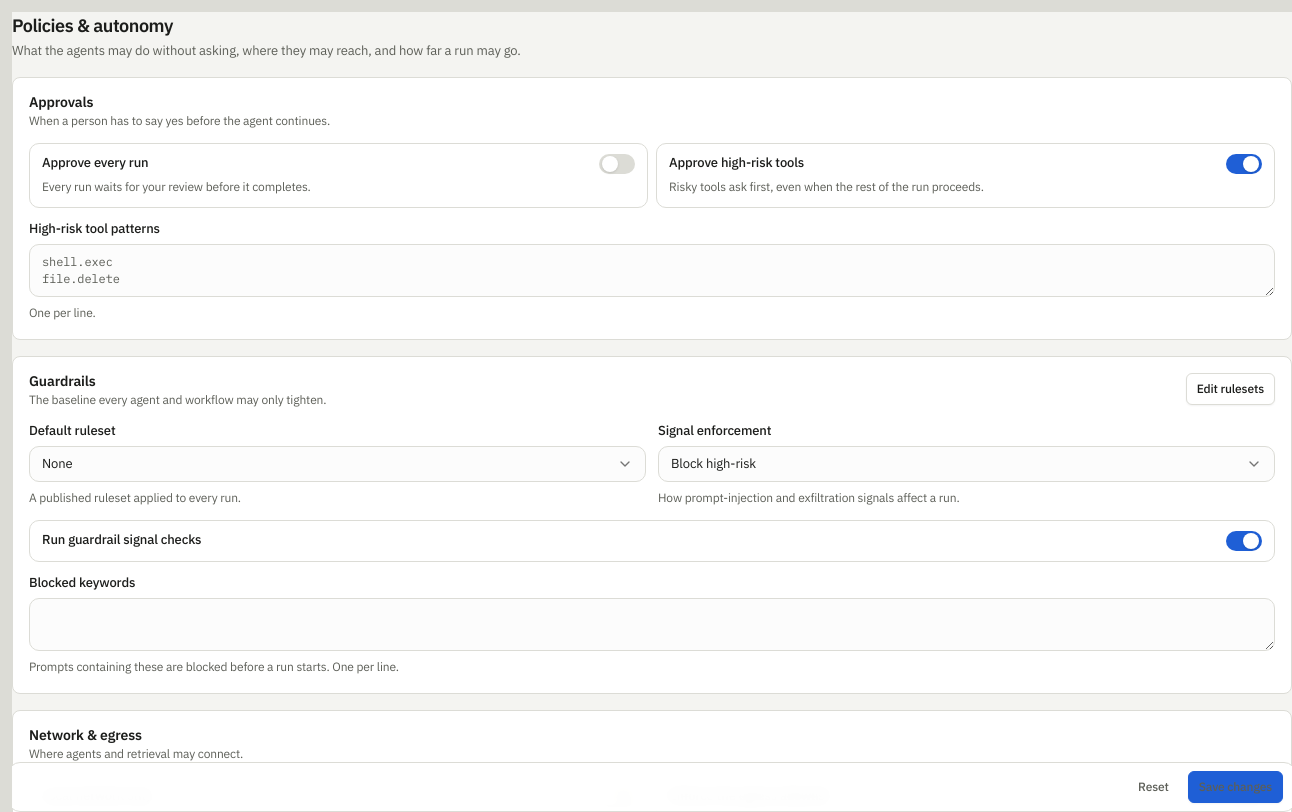
Test: Policies & autonomy › saves only its own fields through savePlatformSettings
Click the switch named "approve every run" in the row of "Approve every run". click: (617, 164)
box: [599,154,635,174]
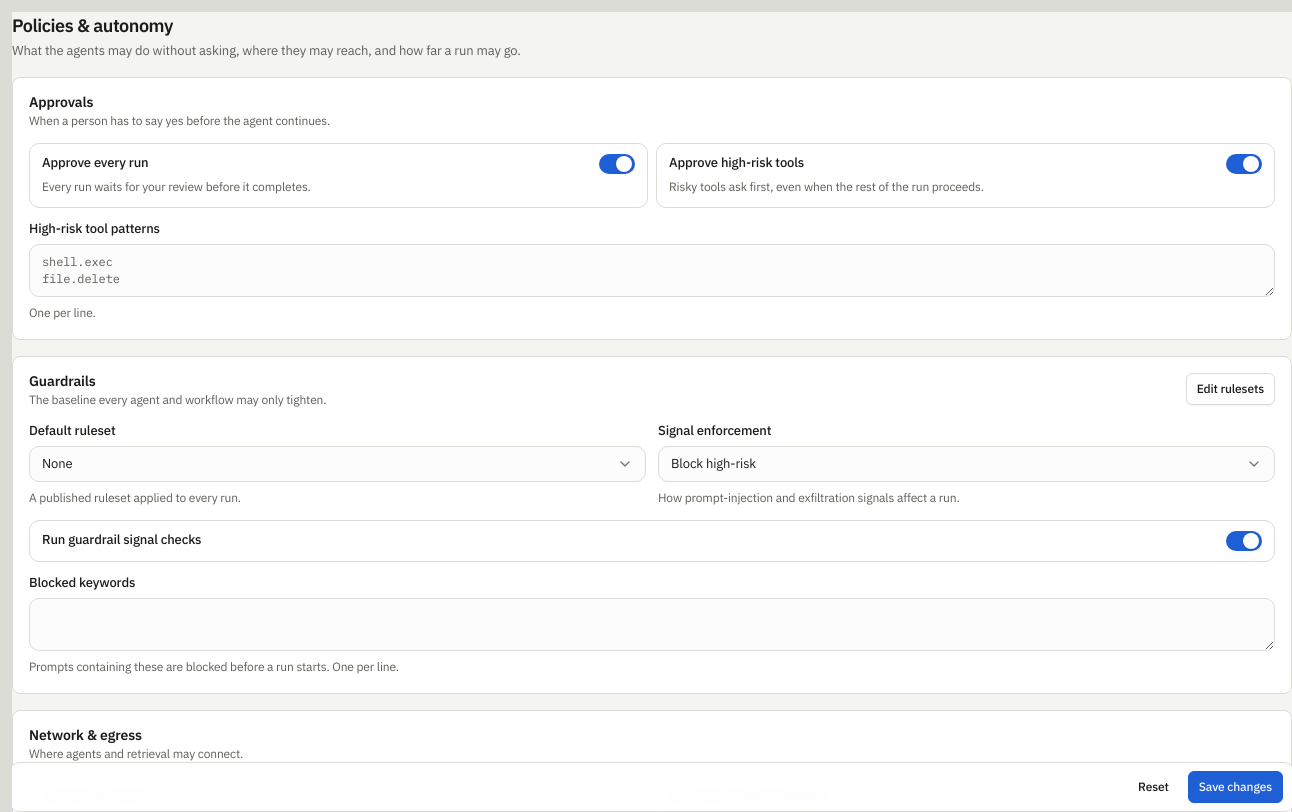
Click the button "Save changes". click: (1235, 787)
box: [1188,771,1283,803]
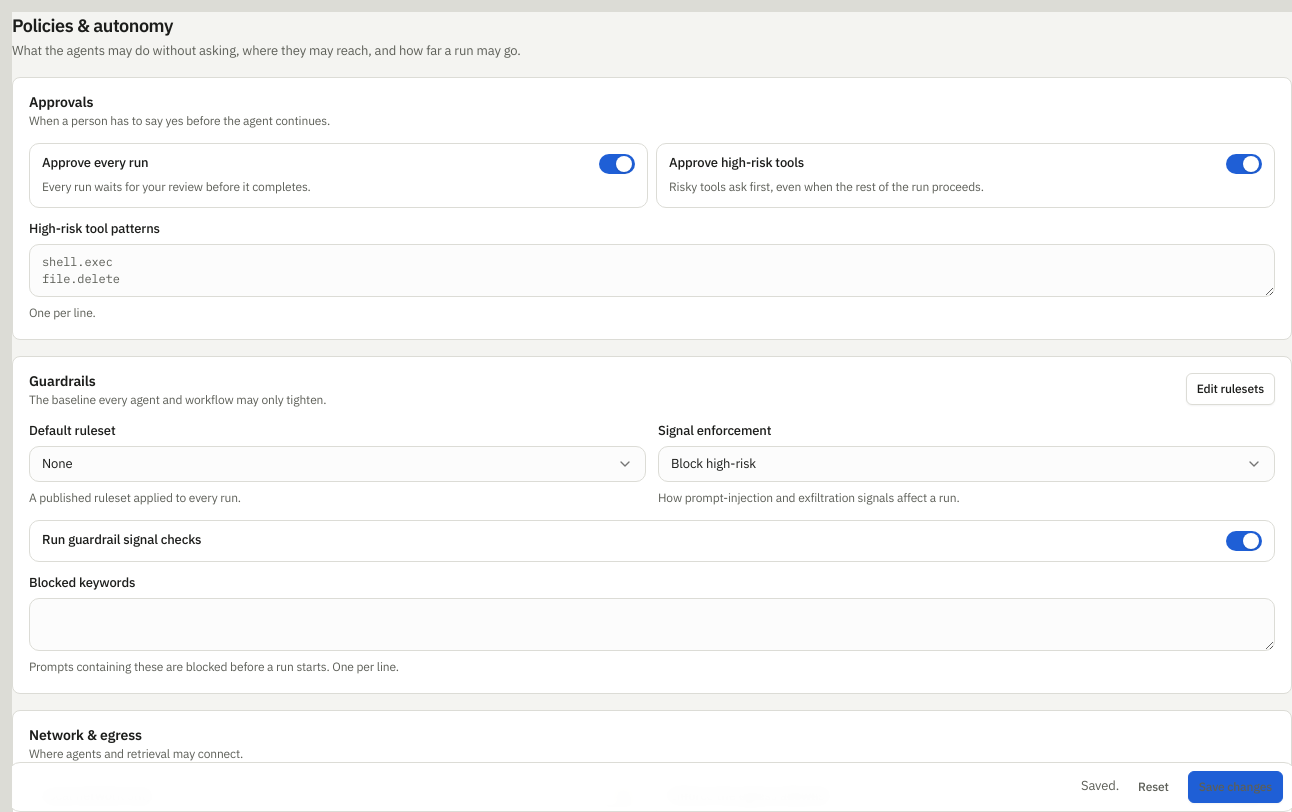
Expected: the text "Saved." is shown, [1081,778,1119,796]
